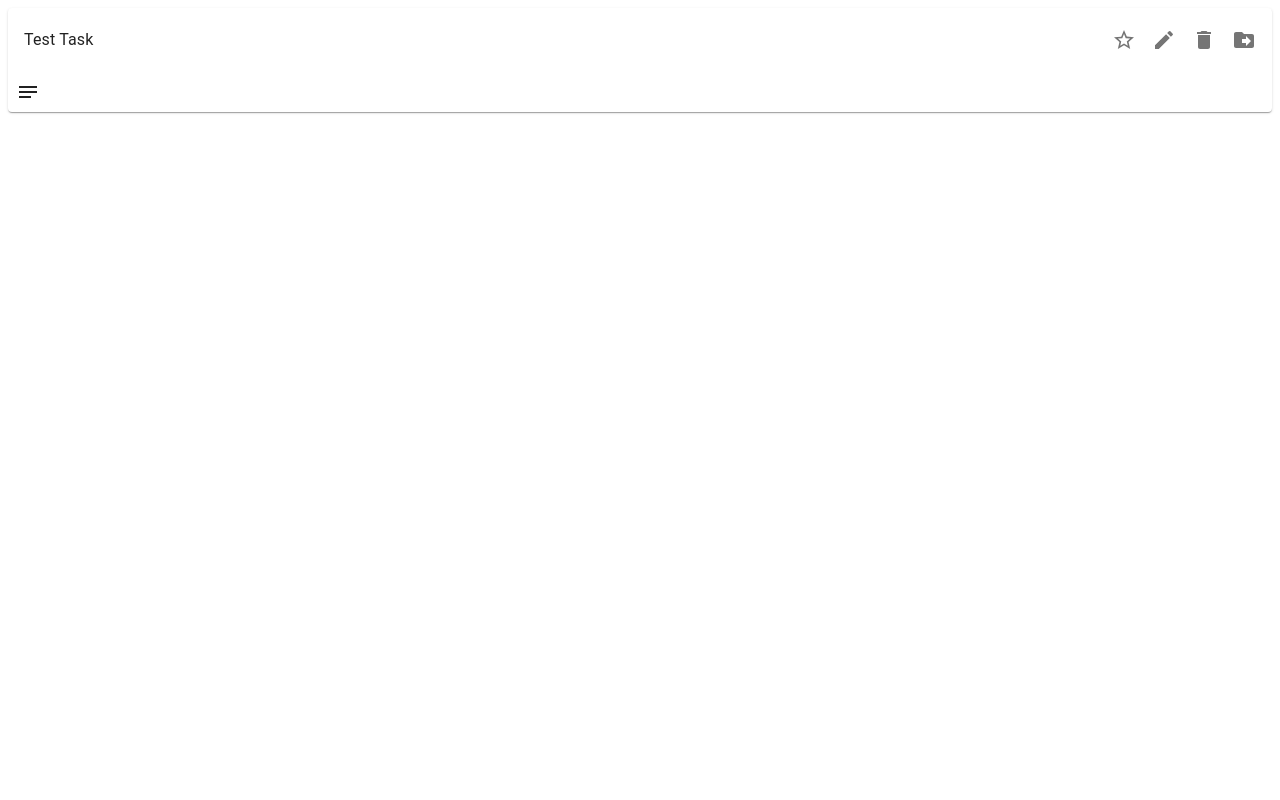
Scenario: TaskCard › should open confirmation dialog with the correct taskId and columnId when the delete button is clicked
Step 1. Click the button named "delete" → click(1204, 40), box left=1184, top=20, right=1224, bottom=60
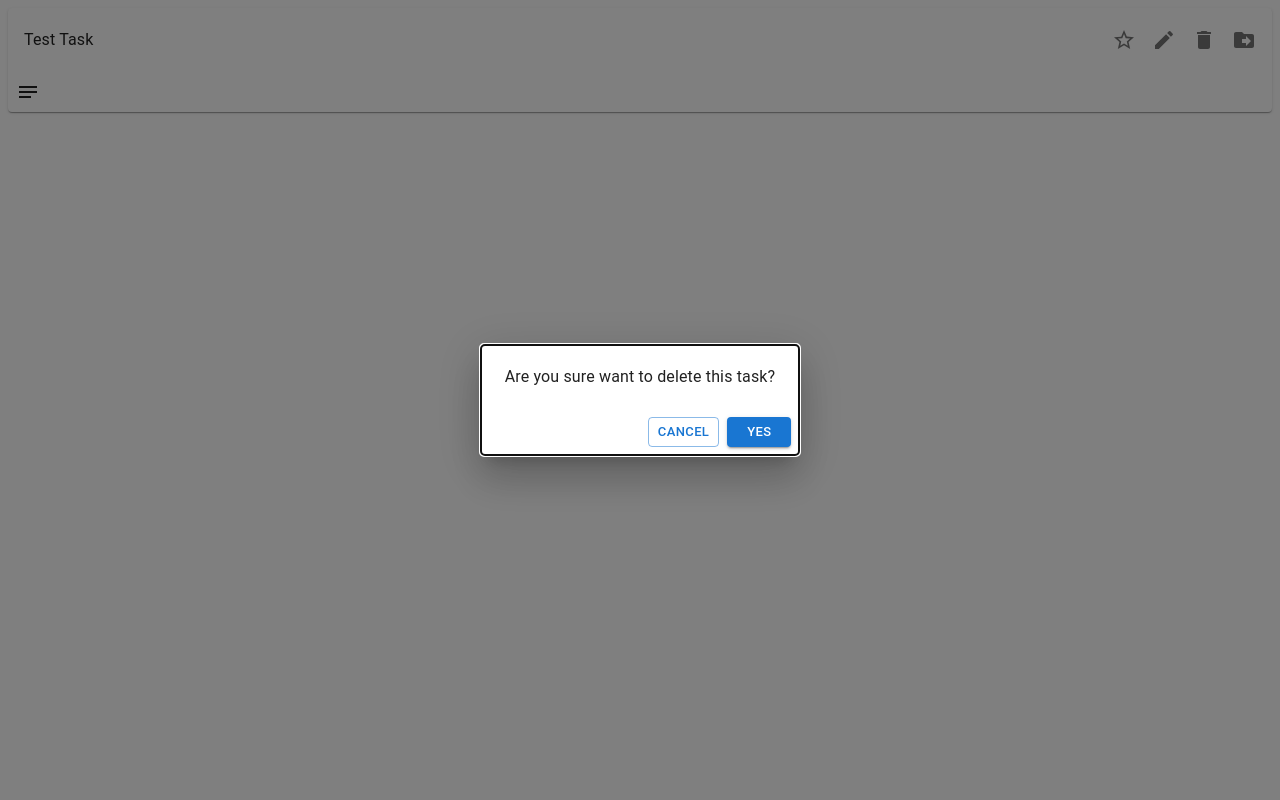
Now the text "Are you sure want to delete this task?" is shown, box left=505, top=365, right=775, bottom=389
